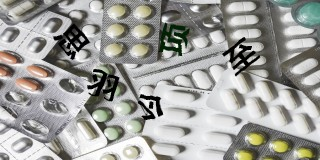今: (138, 93, 163, 120)
思: (53, 24, 90, 60)
羽: (86, 69, 120, 102)
至: (222, 37, 260, 77)
项: (158, 22, 191, 57)
